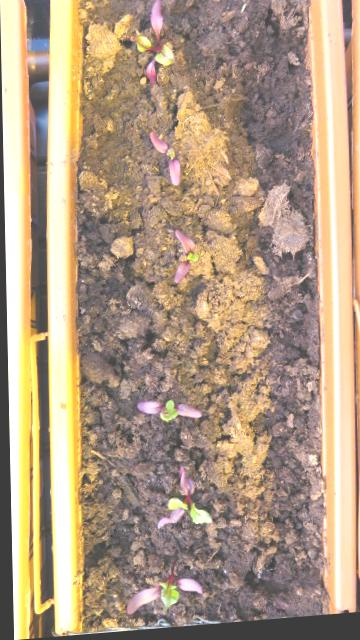crop: (149, 461, 211, 535), (130, 0, 178, 91), (119, 570, 201, 619), (132, 395, 201, 429), (146, 130, 182, 193), (170, 226, 198, 289)
